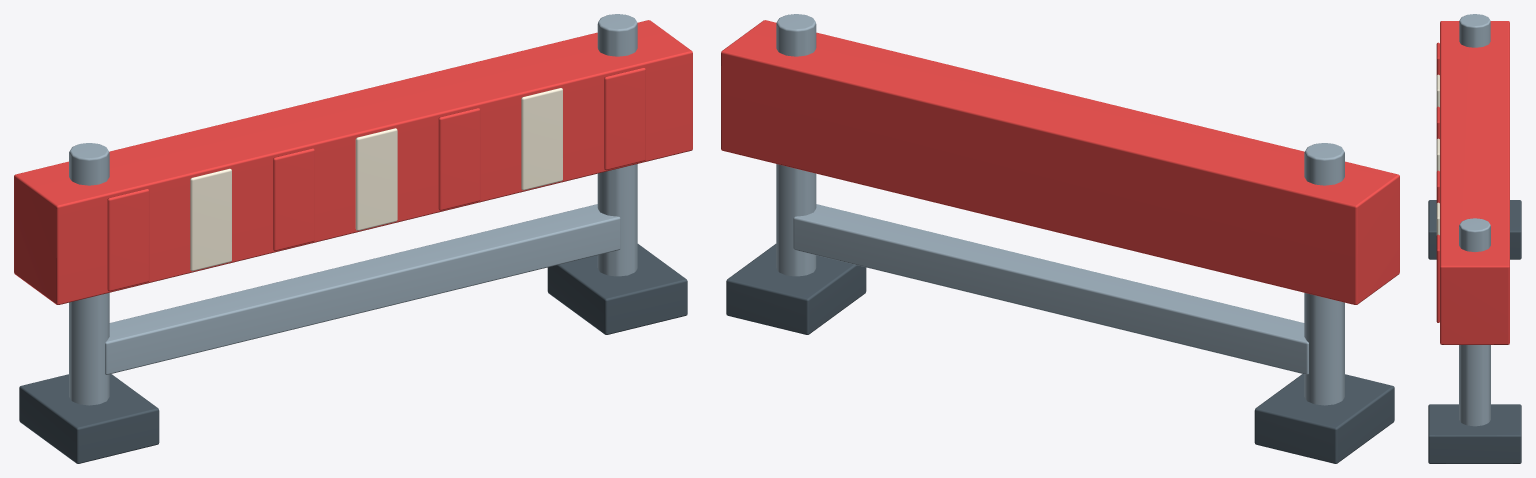
File: low_barrier.glb
3 views of the same model, side by side, from view 1: azimuth 30°, elevation 25°; view 2: azimuth 150°, elevation 25°; view 3: azimuth 270°, elevation 25° (orthographic). The views are drawn at different scales.
Visible parts, largest first — view 1: LowBarrier; view 2: LowBarrier; view 3: LowBarrier.
Boxes of the visible parts, x1,y1,x2,y2 form: LowBarrier: [14, 14, 692, 463]; LowBarrier: [721, 14, 1399, 463]; LowBarrier: [1428, 14, 1521, 463].
Size of the model in its own units: 2 by 0.85 by 0.32.
